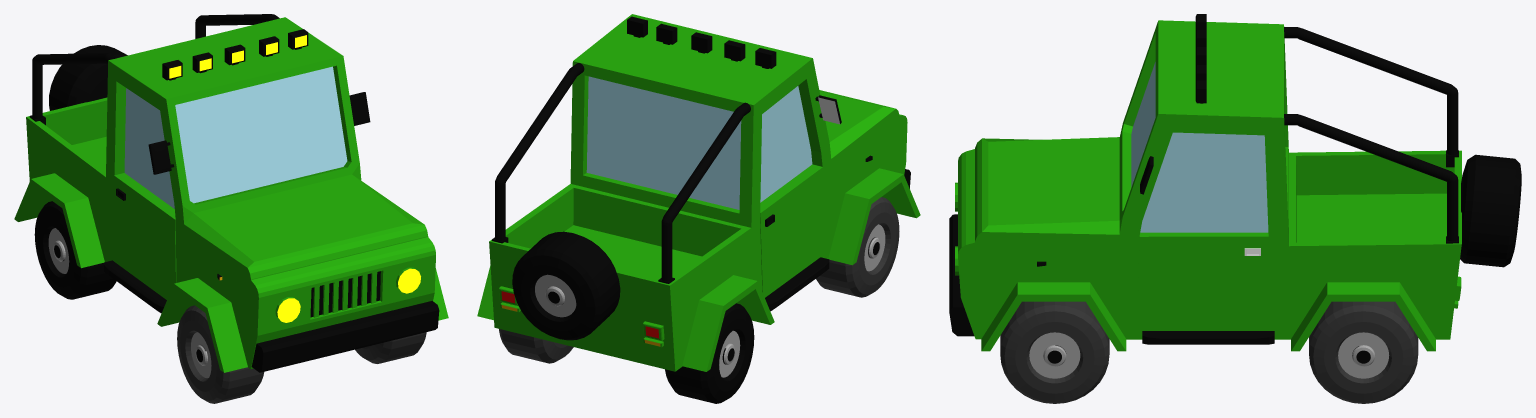
File: vehicule_tout_terrain_low_poly.glb
3 renders of one model, left to right at view 1: azimuth 30°, elevation 25°; view 2: azimuth 150°, elevation 25°; view 3: azimuth 270°, elevation 25°, orthographic. The views are drawn at different scales.
Parts seen in each view (by area): view 1: Object_5, Object_3, Object_4, Object_11, Object_7, Object_6; view 2: Object_5, Object_4, Object_3, Object_11, Object_6; view 3: Object_5, Object_4, Object_11, Object_3, Object_6.
Boxes of the visible parts, x1,y1,x2,y2 form: Object_5: (14, 17, 448, 372); Object_3: (124, 66, 347, 208); Object_4: (29, 14, 439, 372); Object_11: (177, 305, 426, 403); Object_7: (169, 35, 420, 322); Object_6: (48, 228, 211, 378); Object_5: (477, 14, 920, 371); Object_4: (492, 16, 910, 403); Object_3: (586, 76, 812, 209); Object_11: (499, 197, 899, 363); Object_6: (535, 224, 885, 377); Object_5: (955, 20, 1461, 351); Object_4: (949, 14, 1521, 363); Object_11: (1000, 301, 1418, 403); Object_3: (1131, 62, 1268, 232); Object_6: (1029, 332, 1389, 378).
Size of the model in its own units: 2.88 by 3.41 by 5.87.
